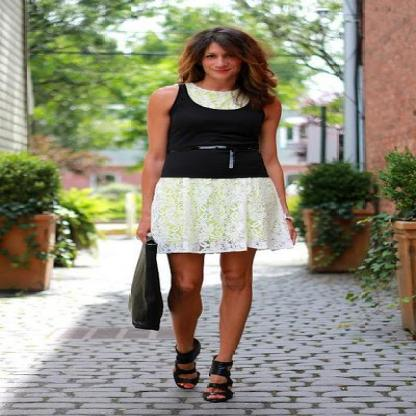bag: (129, 234, 174, 330)
dress: (148, 83, 306, 260)
shirt: (160, 92, 268, 180)
shoe: (174, 341, 244, 402)
